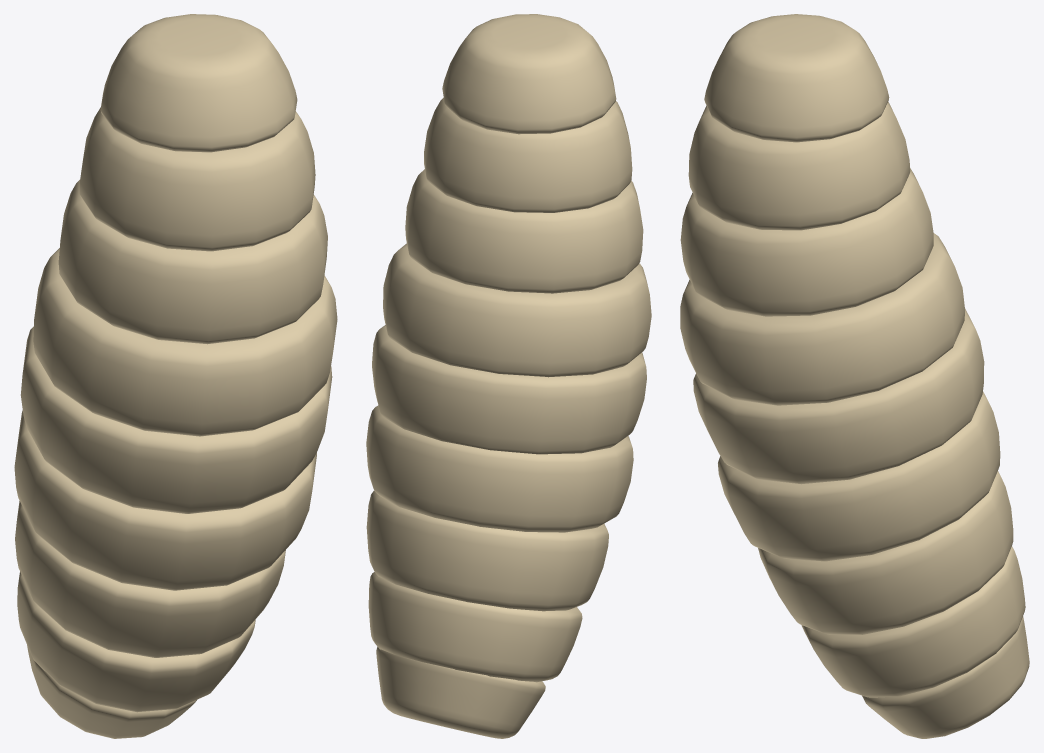
The model's file is larva.fbx.
3 views of the same model, side by side, from view 1: azimuth 30°, elevation 25°; view 2: azimuth 150°, elevation 25°; view 3: azimuth 270°, elevation 25° (orthographic). The views are drawn at different scales.
Visible parts, largest first — view 1: Cone_2, Cone_1, Cone_3, Cone, Cone_4, Cone_7, Cone_5, Cone_6, Cone_8; view 2: Cone_2, Cone_3, Cone_4, Cone_1, Cone_5, Cone, Cone_7, Cone_6, Cone_8; view 3: Cone_2, Cone_3, Cone_1, Cone_4, Cone, Cone_5, Cone_7, Cone_6, Cone_8.
Part boxes in pixels (bbox=[...]): Cone_2: bbox=[33, 248, 337, 436]; Cone_1: bbox=[58, 180, 327, 344]; Cone_3: bbox=[20, 327, 332, 513]; Cone: bbox=[79, 107, 315, 251]; Cone_4: bbox=[14, 410, 316, 590]; Cone_7: bbox=[100, 14, 297, 152]; Cone_5: bbox=[15, 501, 285, 657]; Cone_6: bbox=[17, 571, 255, 712]; Cone_8: bbox=[27, 645, 196, 738]; Cone_2: bbox=[383, 243, 651, 377]; Cone_3: bbox=[372, 325, 646, 454]; Cone_4: bbox=[366, 405, 633, 532]; Cone_1: bbox=[405, 169, 643, 293]; Cone_5: bbox=[366, 490, 608, 611]; Cone: bbox=[424, 98, 632, 212]; Cone_7: bbox=[442, 14, 616, 134]; Cone_6: bbox=[368, 572, 582, 682]; Cone_8: bbox=[376, 647, 545, 738]; Cone_2: bbox=[680, 233, 964, 405]; Cone_3: bbox=[693, 308, 984, 484]; Cone_1: bbox=[680, 168, 933, 316]; Cone_4: bbox=[718, 391, 1000, 561]; Cone: bbox=[688, 102, 910, 230]; Cone_5: bbox=[758, 471, 1013, 634]; Cone_7: bbox=[704, 14, 889, 142]; Cone_6: bbox=[801, 546, 1025, 697]; Cone_8: bbox=[862, 616, 1029, 738].
Size of the model in its own units: 467 by 1221 by 559.
